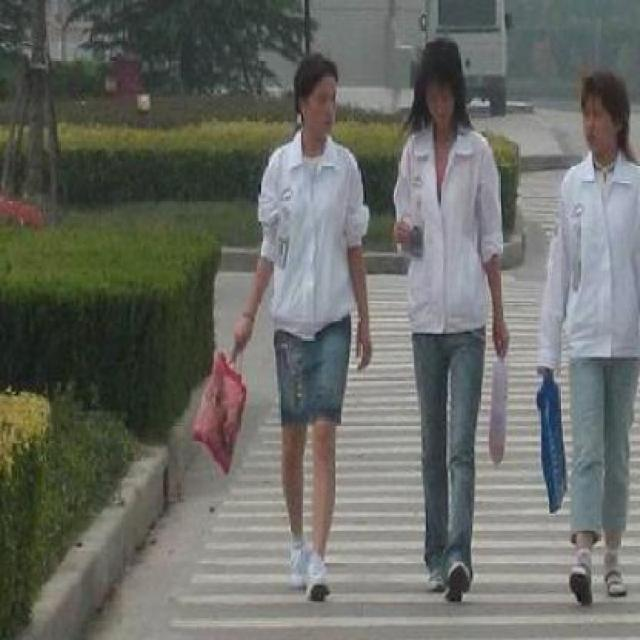Person: (249, 46, 377, 605), (394, 30, 514, 604), (540, 65, 638, 612)
